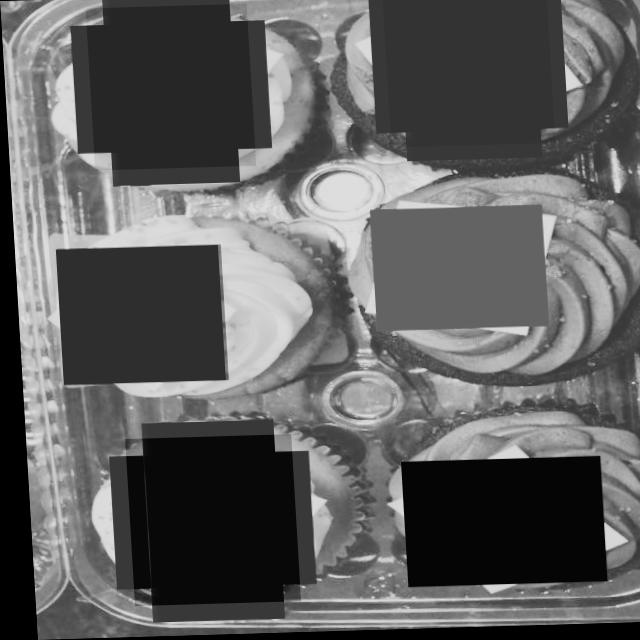qr_code: (120, 435, 293, 606), (85, 4, 254, 170), (395, 459, 600, 588), (382, 0, 553, 149), (53, 245, 223, 385), (366, 207, 545, 333)
